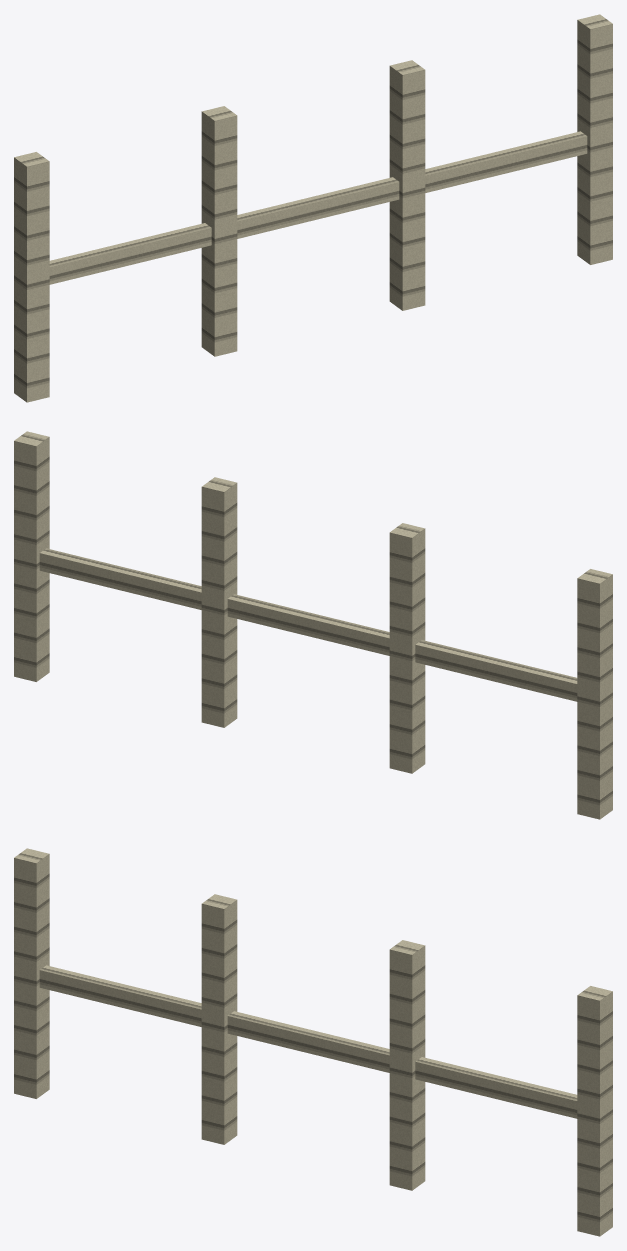
The model's file is fence_farm_field_post_line.glb.
3 views of the same model, one above another, from view 1: azimuth 30°, elevation 25°; view 2: azimuth 150°, elevation 25°; view 3: azimuth 330°, elevation 25° (orthographic).
Visible parts, largest first — view 1: fence_farm_field_post_line-col; view 2: fence_farm_field_post_line-col; view 3: fence_farm_field_post_line-col.
Part boxes in pixels (x1,y1,x2,y2): fence_farm_field_post_line-col: (14, 14, 612, 402); fence_farm_field_post_line-col: (14, 431, 612, 819); fence_farm_field_post_line-col: (14, 848, 612, 1236).
Bounding box in the file's own units: 3.12 × 1.2 × 0.12.
Materials: 1 (1 with a texture image).
